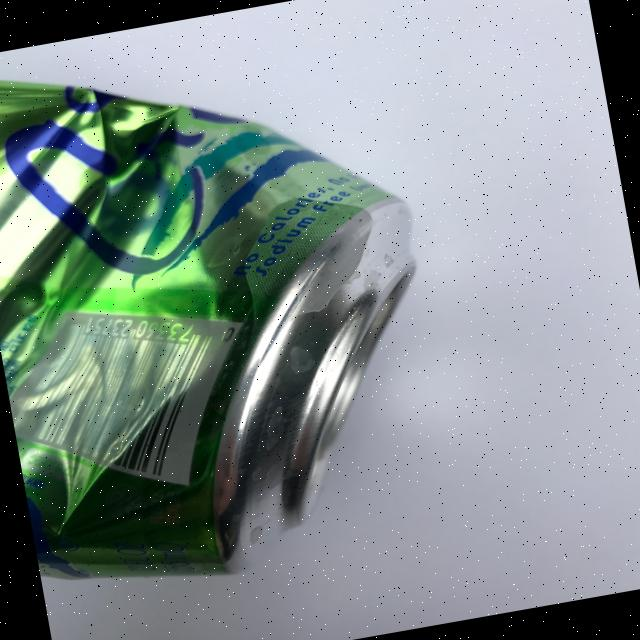metal: (0, 1, 468, 607)
